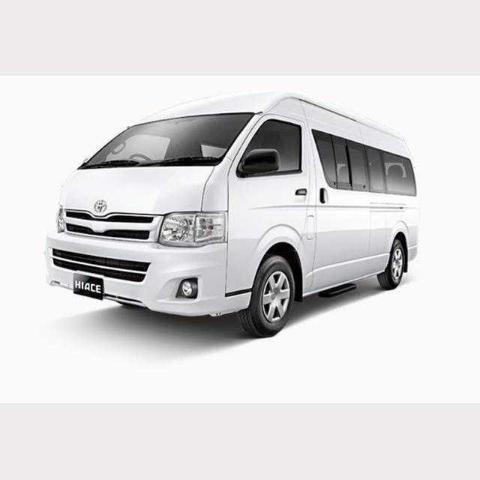van: (43, 90, 416, 338)
